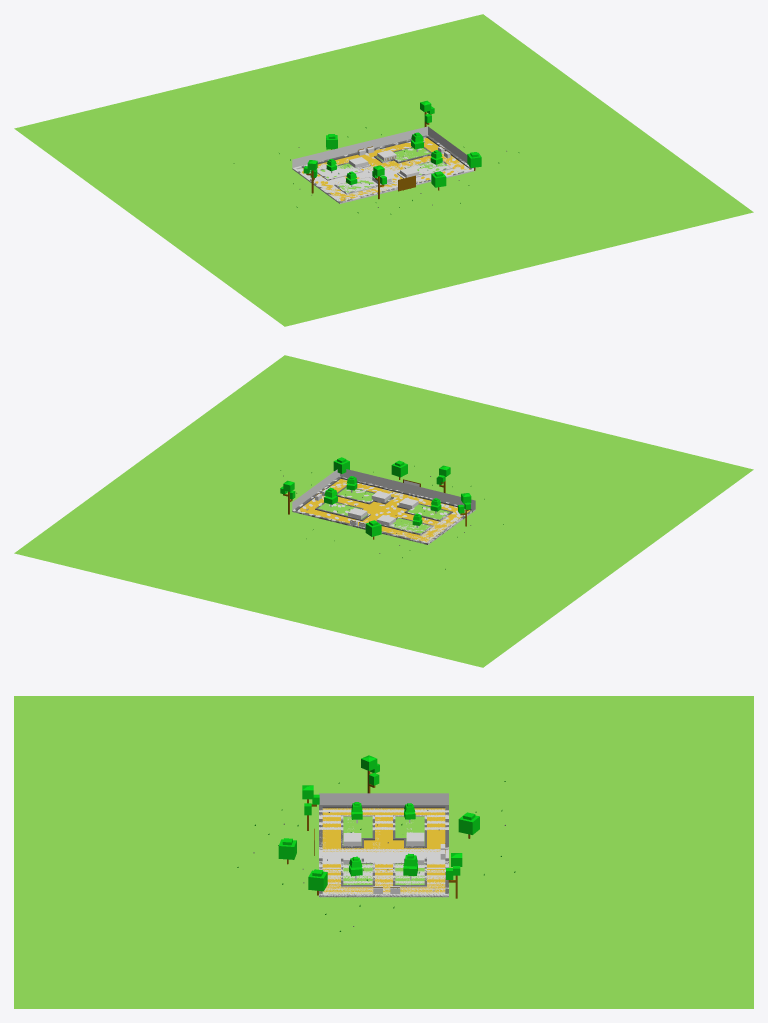
The model's file is park2.glb.
The picture shows the model from 3 angles, top to bottom: view 1: azimuth 30°, elevation 25°; view 2: azimuth 150°, elevation 25°; view 3: azimuth 270°, elevation 25°; orthographic projection. The views are drawn at different scales.
Visible parts, largest first — view 1: cenario, colisao; view 2: cenario, colisao; view 3: cenario, colisao.
Boxes of the visible parts, x1,y1,x2,y2 form: cenario: [14, 14, 753, 326]; colisao: [292, 126, 475, 203]; cenario: [14, 355, 753, 667]; colisao: [292, 469, 475, 544]; cenario: [14, 696, 753, 1008]; colisao: [319, 793, 448, 897].
Bounding box in the file's own units: 35.19 × 2.3 × 35.19.
